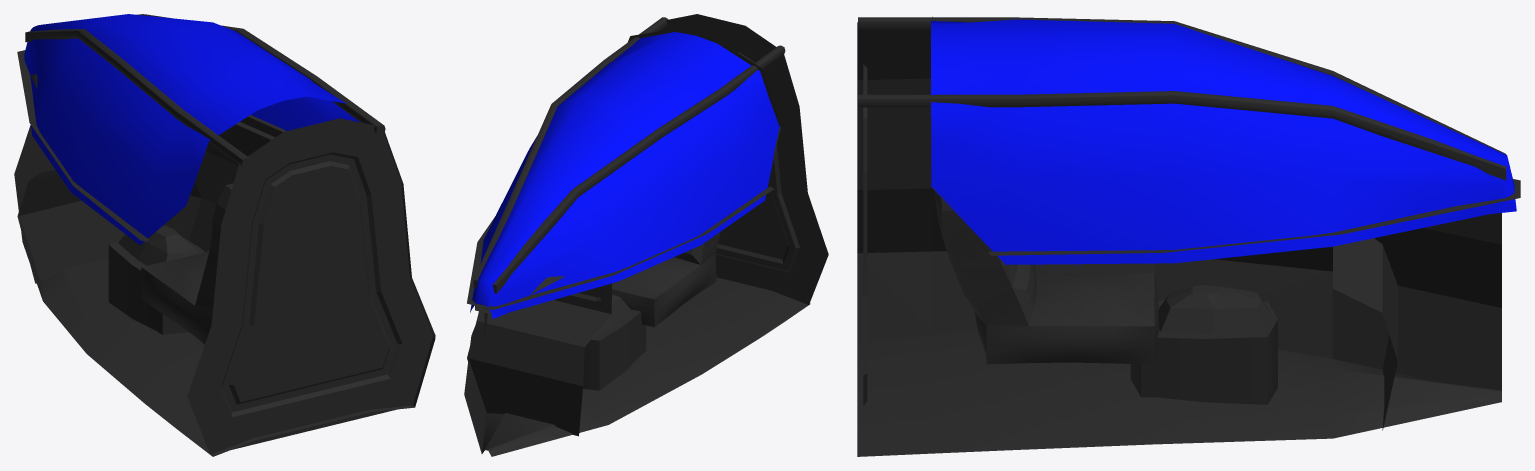
The model's file is Cockpit_01.FBX.
3 renders of one model, left to right at view 1: azimuth 30°, elevation 25°; view 2: azimuth 150°, elevation 25°; view 3: azimuth 270°, elevation 25°, orthographic. The views are drawn at different scales.
Parts seen in each view (by area): view 1: Window; view 2: Window; view 3: Window.
Part boxes in pixels (left/top/right/bottom): Window: left=14, top=14, right=435, bottom=456; Window: left=464, top=14, right=828, bottom=456; Window: left=857, top=16, right=1520, bottom=456.
Size of the model in its own units: 81.27 by 95.93 by 157.
